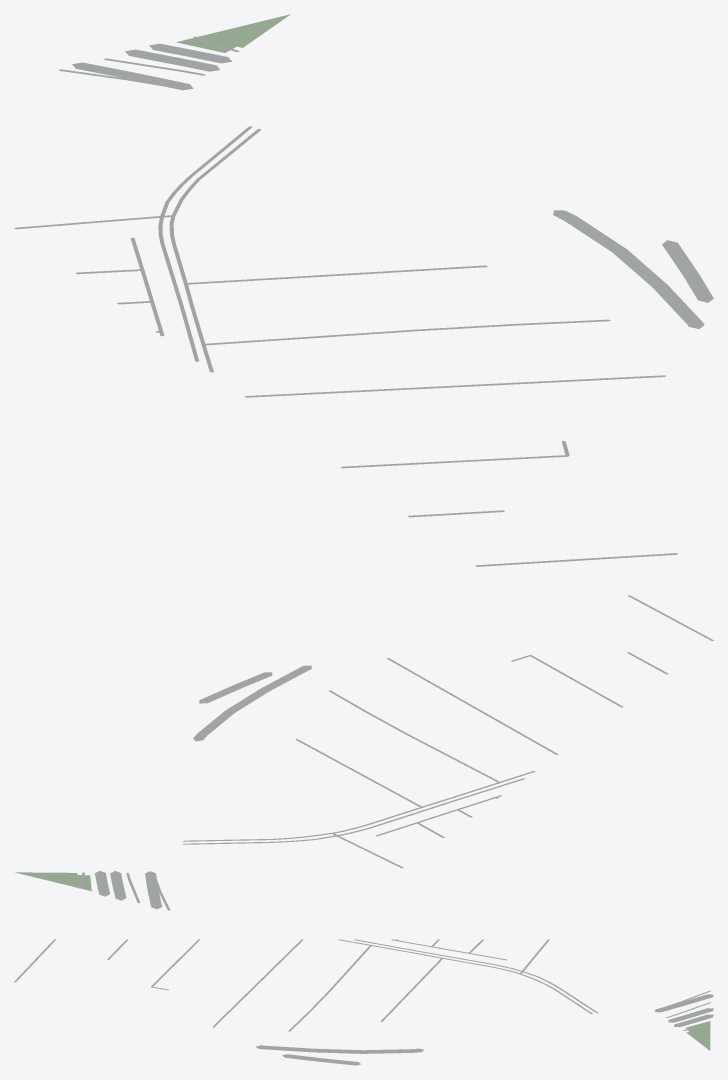
The model's file is -15_31-known-coarse.glb.
3 views of the same model, one above another, from view 1: azimuth 30°, elevation 25°; view 2: azimuth 150°, elevation 25°; view 3: azimuth 270°, elevation 25° (orthographic). The views are drawn at different scales.
Size of the model in its own units: 406 by 0.1 by 951.
